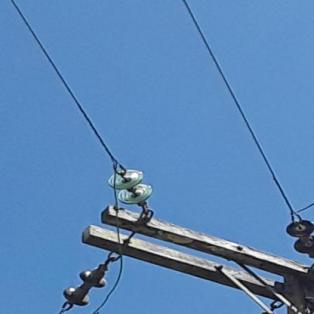Poste: (248, 247, 313, 314)
